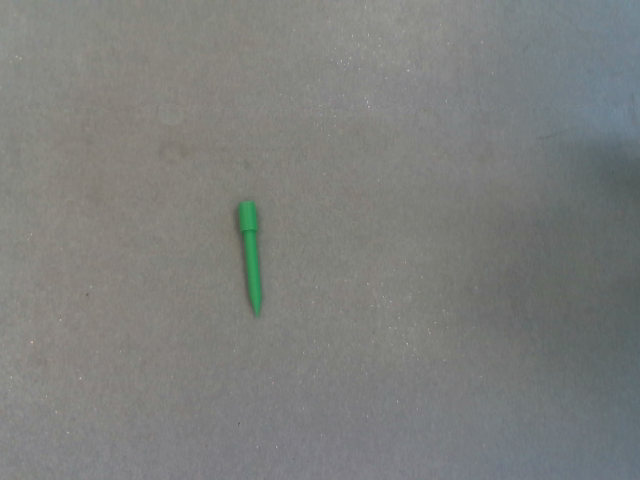Probe: (233, 196, 269, 320)
